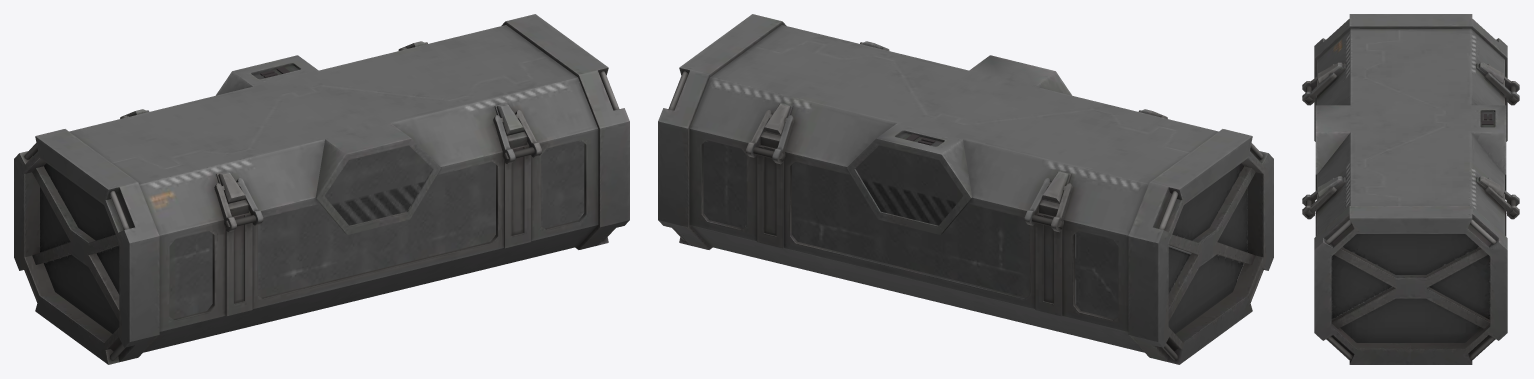
File: empirecrate.glb
3 renders of one model, left to right at view 1: azimuth 30°, elevation 25°; view 2: azimuth 150°, elevation 25°; view 3: azimuth 270°, elevation 25°, orthographic. The views are drawn at different scales.
Visible parts, largest first — view 1: defaultMaterial; view 2: defaultMaterial; view 3: defaultMaterial.
Boxes of the visible parts, x1,y1,x2,y2 form: defaultMaterial: (14,14,629,364); defaultMaterial: (658,14,1273,364); defaultMaterial: (1302,14,1519,364).
Bounding box in the file's own units: 1.6 × 0.5354 × 0.7184.
1 material, 1 textured.
